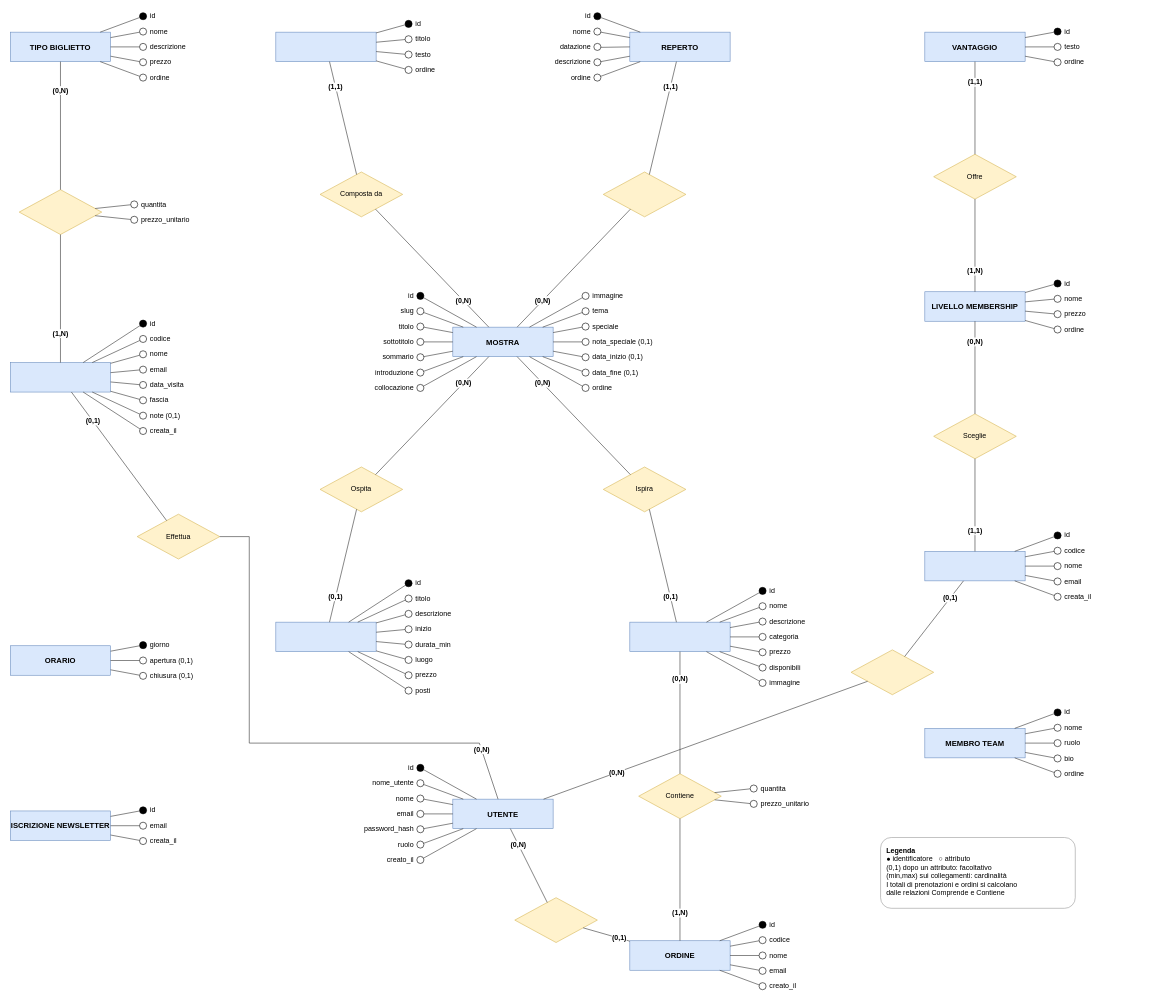
Some shapes in this 1158 by 1002 pixel diagram are drawn without their labels. The shapes that lost their labels are listed below. From the top down, each one's centre as x and y in pixels, then its label:
the point at 325,47: SEZIONE
the point at 60,212: Comprende
the point at 644,194: Espone
the point at 60,377: PRENOTAZIONE
the point at 974,566: RICHIESTA MEMBERSHIP
the point at 325,637: EVENTO
the point at 679,637: PRODOTTO
the point at 892,672: Richiede
the point at 555,920: Fa
